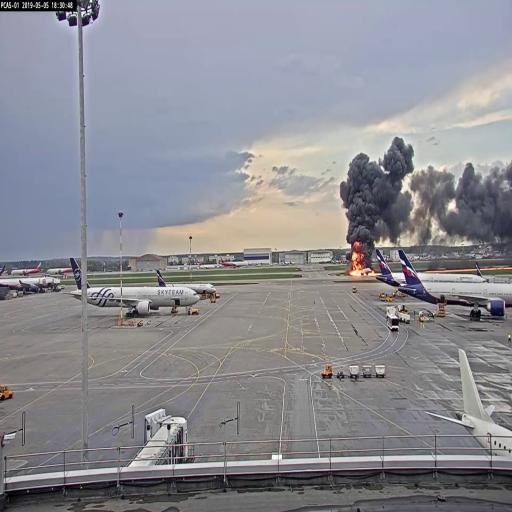fire: (352, 246, 362, 277)
smoke: (341, 152, 379, 244)
